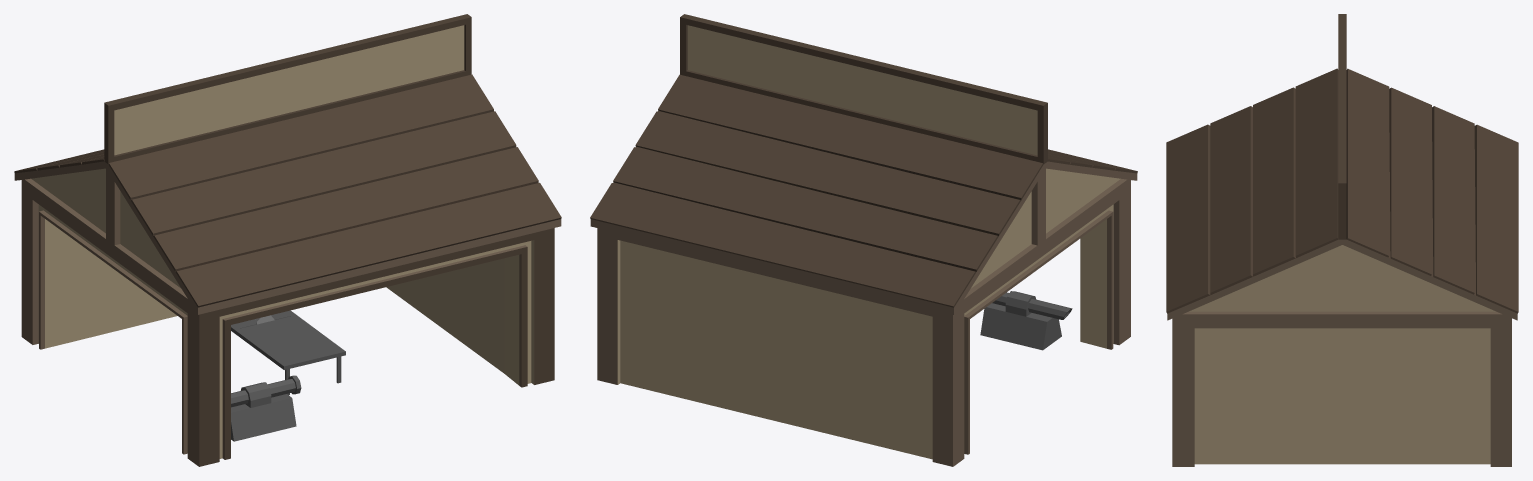
The model's file is sawmill_02.fbx.
3 renders of one model, left to right at view 1: azimuth 30°, elevation 25°; view 2: azimuth 150°, elevation 25°; view 3: azimuth 270°, elevation 25°, orthographic. The views are drawn at different scales.
Visible parts, largest first — view 1: sawmill_02, whipsaw, tool; view 2: sawmill_02, tool; view 3: sawmill_02.
Part boxes in pixels (left/top/right/bottom): sawmill_02: left=14, top=14, right=561, bottom=466; whipsaw: left=231, top=310, right=345, bottom=395; tool: left=231, top=375, right=301, bottom=441; sawmill_02: left=590, top=14, right=1137, bottom=466; tool: left=980, top=291, right=1072, bottom=350; sawmill_02: left=1166, top=14, right=1518, bottom=466.
Size of the model in its own units: 8.34 by 7.33 by 6.55.
